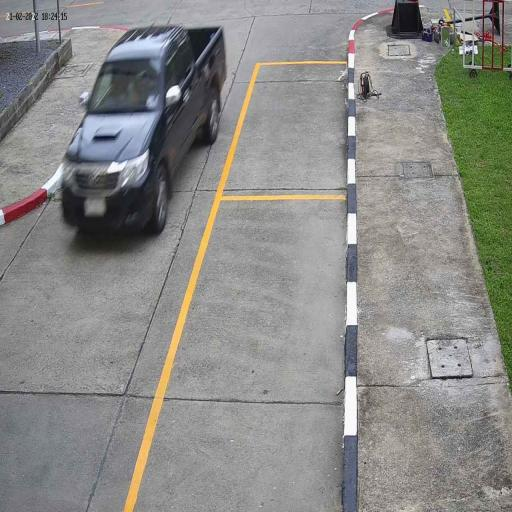car: (60, 23, 229, 247)
